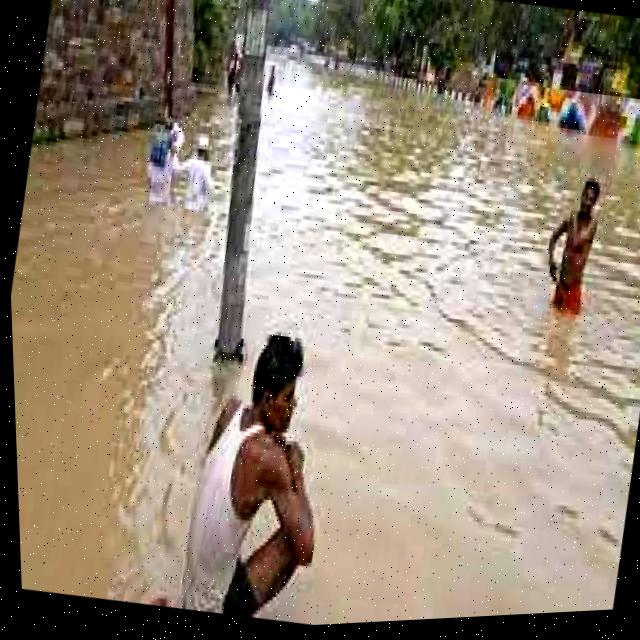civilian: (151, 309, 359, 631), (527, 164, 625, 322), (128, 114, 190, 213), (173, 129, 229, 216), (219, 53, 247, 106), (624, 119, 640, 187), (259, 58, 283, 101)
